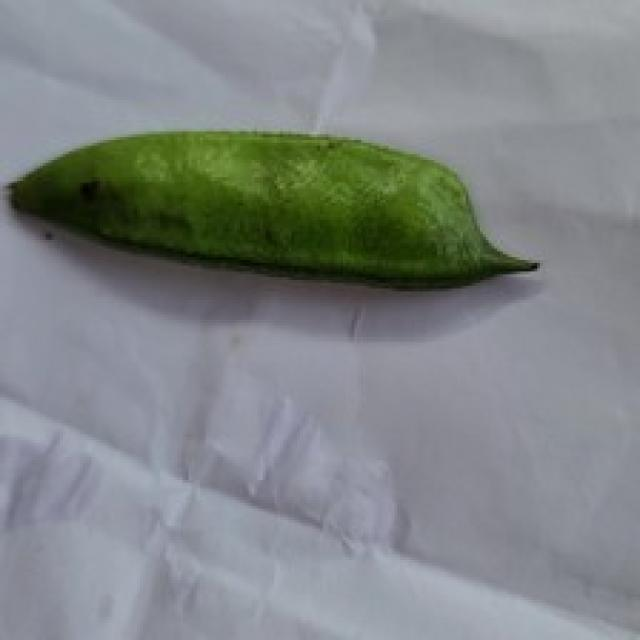Bean: (3, 126, 540, 291)
